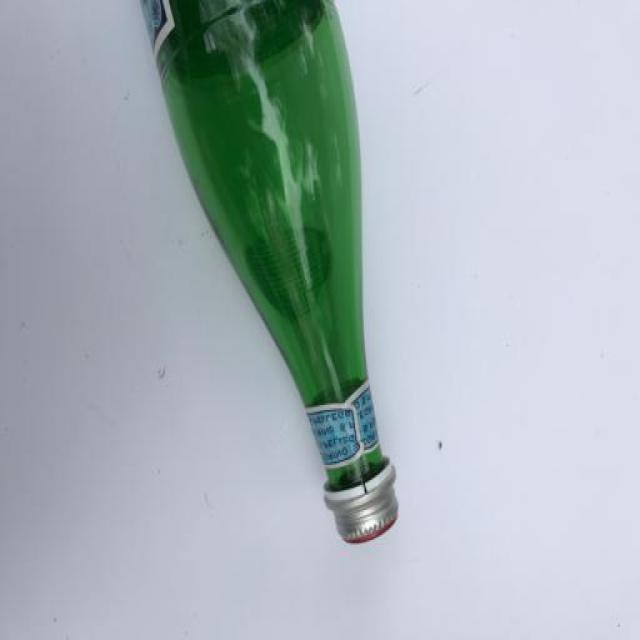glass: (135, 0, 404, 545)
